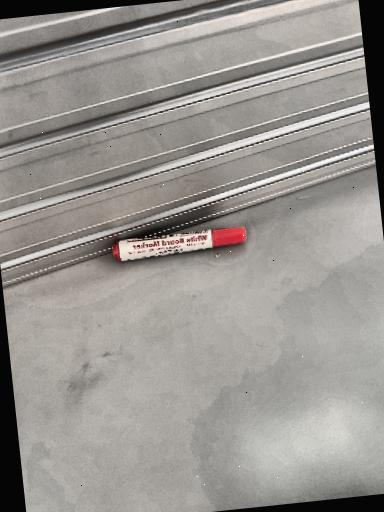marcador rojo: (112, 227, 246, 261)
